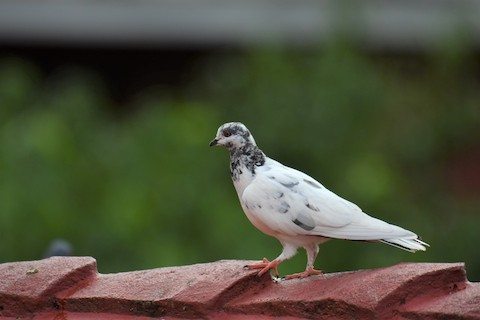pigeon: (202, 119, 433, 281)
